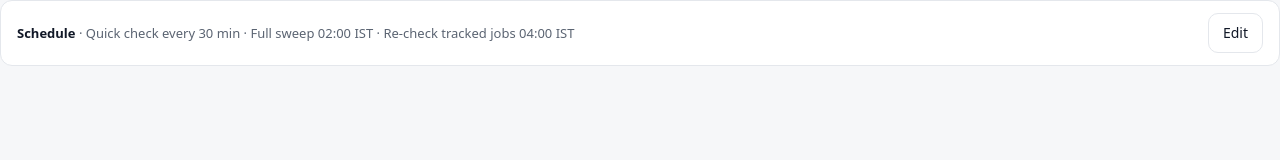
it: saves a new schedule
Click the button with aria-label "Edit schedule": (1235, 33) [1208,13,1263,53]
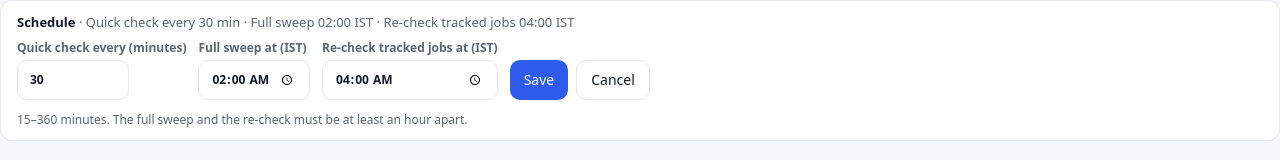
Replace the text in the number field labelled "Quick check every (minutes)" with "45": (73, 80) [17,60,129,100]
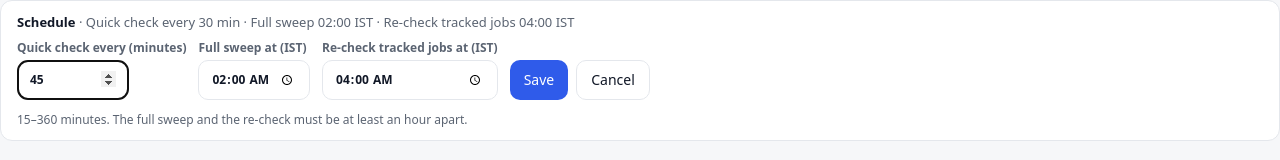
Replace the text in the time field labelled "Full sweep at (IST)" with "01:30": (254, 80) [198,60,310,100]
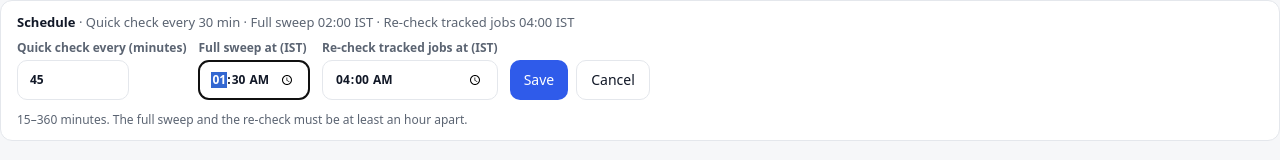
Click the button "Save": (539, 80) [510,60,568,100]
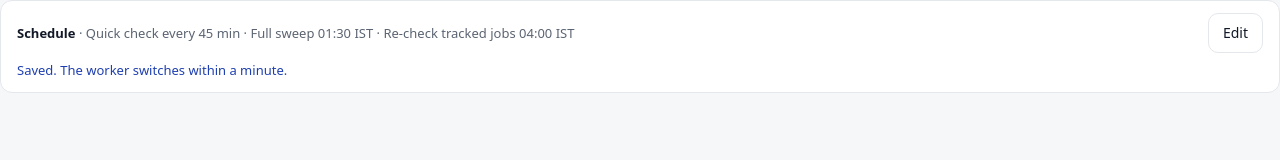
Check: the element with test id "schedule" shows "Quick check every 45 min", box [17,24,574,42]
Check: the element with test id "schedule" shows "Full sweep 01:30 IST", box [17,24,574,42]
Check: the message reads "Saved. The worker switches within a minute.", box [17,61,287,79]
